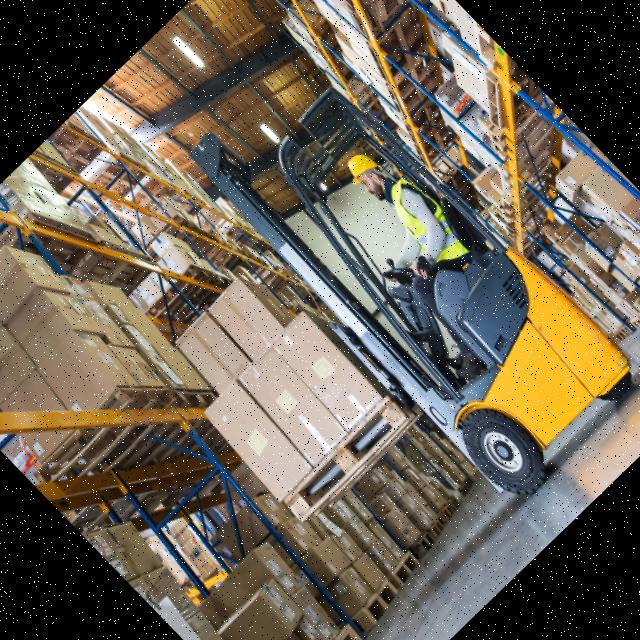Person: (298, 137, 542, 385)
